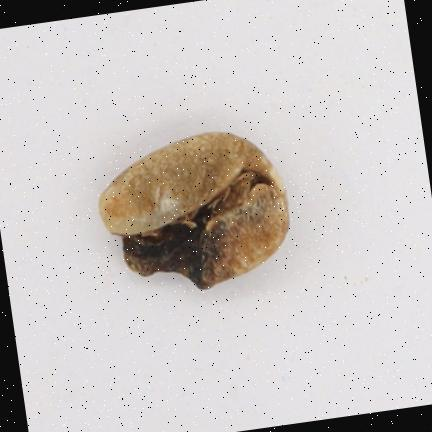cut: (99, 131, 289, 288)
